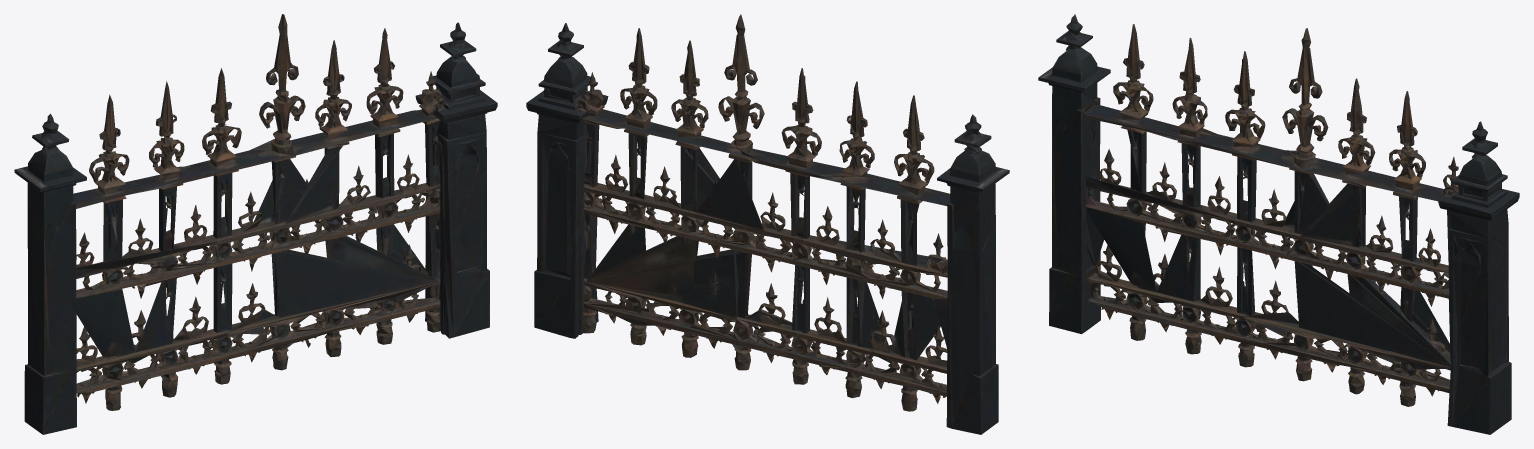
File: mx_pr_iron_fence.glb
3 renders of one model, left to right at view 1: azimuth 30°, elevation 25°; view 2: azimuth 150°, elevation 25°; view 3: azimuth 330°, elevation 25°, orthographic.
Size of the model in its own units: 1.9 by 1.41 by 0.2031.
Materials: 1 (1 with a texture image).
